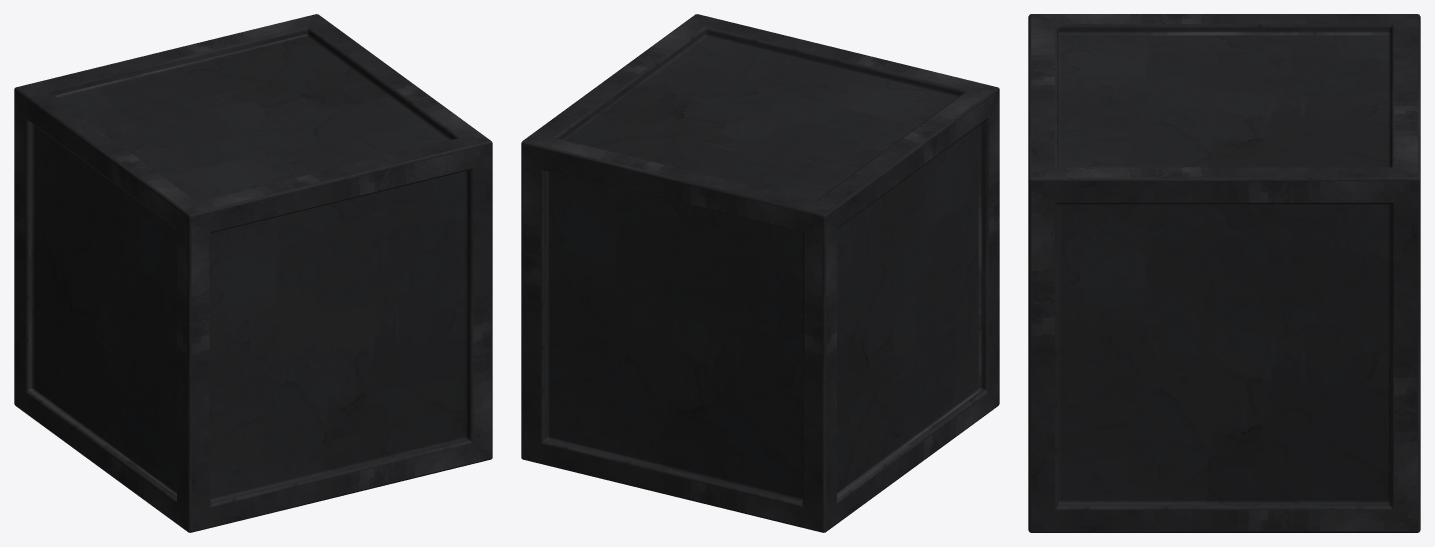
The model's file is Illusionsblock.fbx.
3 renders of one model, left to right at view 1: azimuth 30°, elevation 25°; view 2: azimuth 150°, elevation 25°; view 3: azimuth 270°, elevation 25°, orthographic. The views are drawn at different scales.
Parts seen in each view (by area): view 1: Cube; view 2: Cube; view 3: Cube.
Boxes of the visible parts, <box> form: Cube: <box>14,14,492,532</box>; Cube: <box>521,14,999,532</box>; Cube: <box>1028,14,1420,532</box>.
Size of the model in its own units: 1 by 1 by 1.
